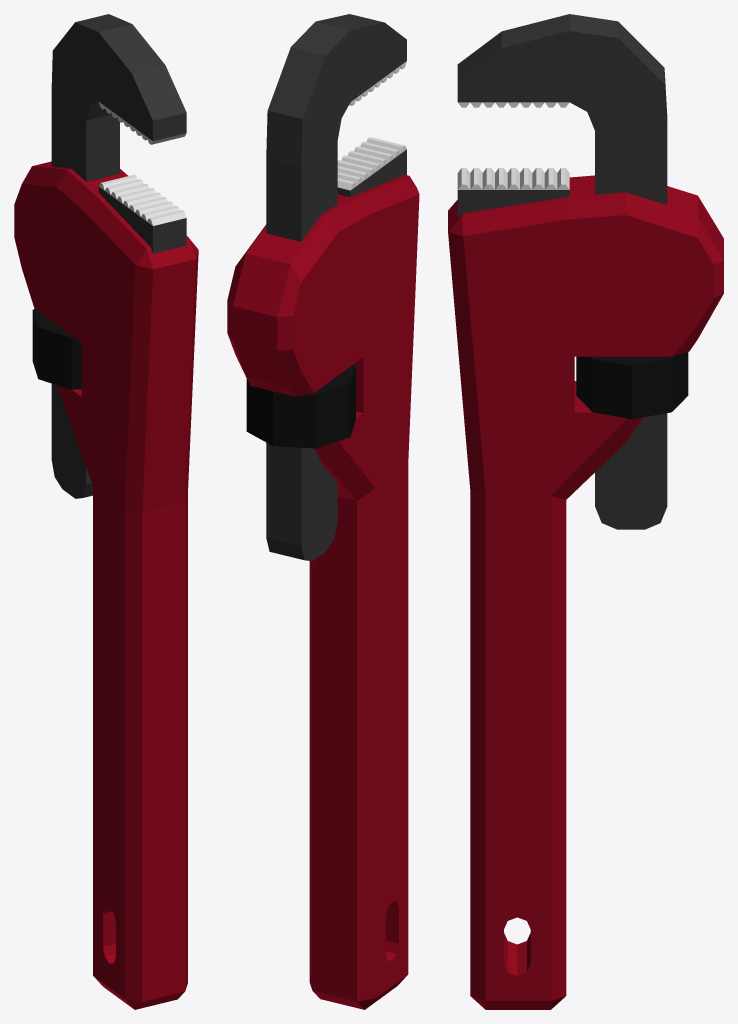
File: Wrench.glb
3 renders of one model, left to right at view 1: azimuth 30°, elevation 25°; view 2: azimuth 150°, elevation 25°; view 3: azimuth 270°, elevation 25°, orthographic. The views are drawn at different scales.
Visible parts, largest first — view 1: Wrench; view 2: Wrench; view 3: Wrench.
Part boxes in pixels (left/top/right/bottom): Wrench: left=14, top=14, right=198, bottom=1009; Wrench: left=227, top=14, right=419, bottom=1009; Wrench: left=448, top=14, right=723, bottom=1009.
Bounding box in the file's own units: 0.0363 × 0.3493 × 0.0894.
